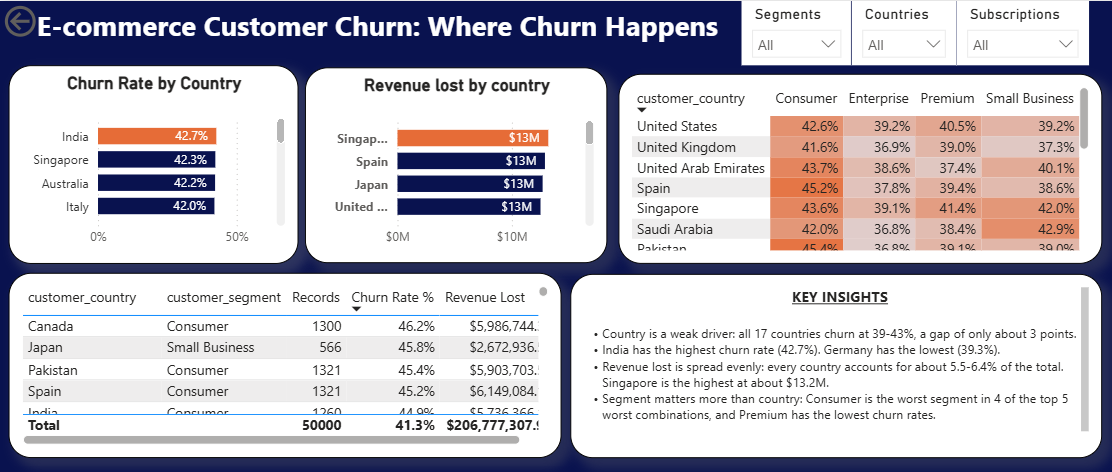

The page's visual inventory and layout, read from the dashboard file:
{"tool":"powerbi","page":{"name":"Where Churn Happens","canvas":[1550,717],"ordinal":2},"visuals":[{"type":"textbox","box":[0,0,735,51],"z":0},{"type":"slicer","fields":{"Values":["Customers.customer_segment"]},"box":[735.4,0,262.5,62.5],"z":1000},{"type":"slicer","fields":{"Values":["Customers.customer_country"]},"box":[997.9,0,262.5,62.5],"z":2000},{"type":"slicer","fields":{"Values":["Customers.subscription_type"]},"box":[1260.4,0,262.5,62.5],"z":3000},{"type":"clusteredBarChart","title":"Churn Rate by Country","fields":{"Category":["Customers.customer_country"],"Y":["_Measures.Churn Rate %"]},"box":[8.3,62.5,572.9,260.4],"z":4000},{"type":"clusteredBarChart","title":"Revenue lost by country","fields":{"Category":["Customers.customer_country"],"Y":["_Measures.Revenue Lost"]},"box":[590.6,88.5,430.2,324],"z":5000},{"type":"pivotTable","fields":{"Rows":["Customers.customer_country"],"Columns":["Customers.customer_segment"],"Values":["_Measures.Churn Rate %"]},"box":[1030.2,69.8,492.7,342.7],"z":6000},{"type":"tableEx","fields":{"Values":["Customers.customer_country","Customers.customer_segment","_Measures.Records","_Measures.Churn Rate %","_Measures.Revenue Lost"]},"box":[8.3,331.2,572.9,369.8],"z":7000},{"type":"actionButton","box":[0,0,100,40],"z":8000},{"type":"textbox","box":[590.6,421.9,940.6,279.2],"z":8001}]}

Visuals, with their boxes on the page's 1550x717 design canvas (x1, y1, x2, y2). These are canvas units, not pixel positions in the 1112x472 screenshot, which may show the page scaled, cropped or inside an application window:
textbox: 0:0:735:51
slicer - Customers.customer_segment: 735:0:998:62
slicer - Customers.customer_country: 998:0:1260:62
slicer - Customers.subscription_type: 1260:0:1523:62
"Churn Rate by Country" clusteredBarChart: 8:62:581:323
"Revenue lost by country" clusteredBarChart: 591:88:1021:412
pivotTable - Customers.customer_country x Customers.customer_segment: 1030:70:1523:412
tableEx - Customers.customer_country x Customers.customer_segment: 8:331:581:701
actionButton: 0:0:100:40
textbox: 591:422:1531:701
